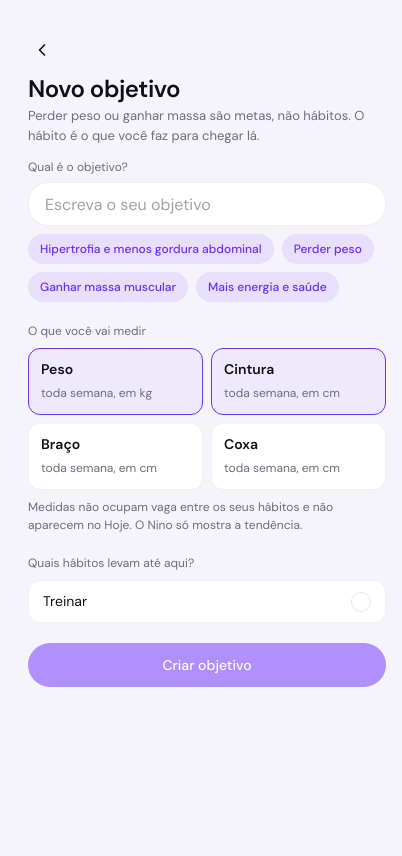
Test: novo objetivo › cria com as medidas escolhidas (peso e cintura vêm marcados) e vai para a tela do objetivo
This screenshot has width=402, height=856.
Check: the button "Criar objetivo" is disabled, box [28,643,386,687]
Click the button "Hipertrofia e menos gordura abdominal": (151, 249) [28,234,274,264]
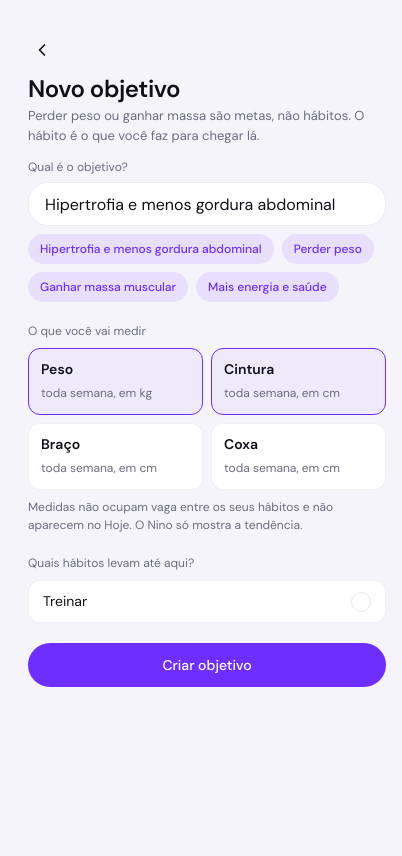
Click the button "Treinar": (65, 601) [28,580,386,623]
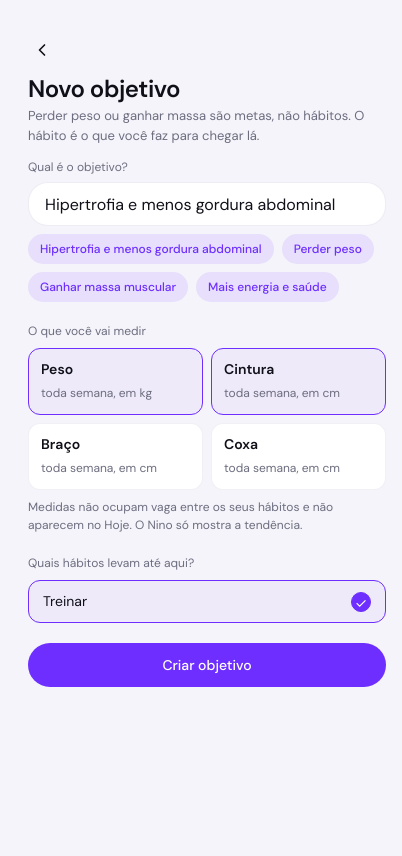
Click the button "Braço toda semana, em cm": (116, 457) [28,423,203,490]
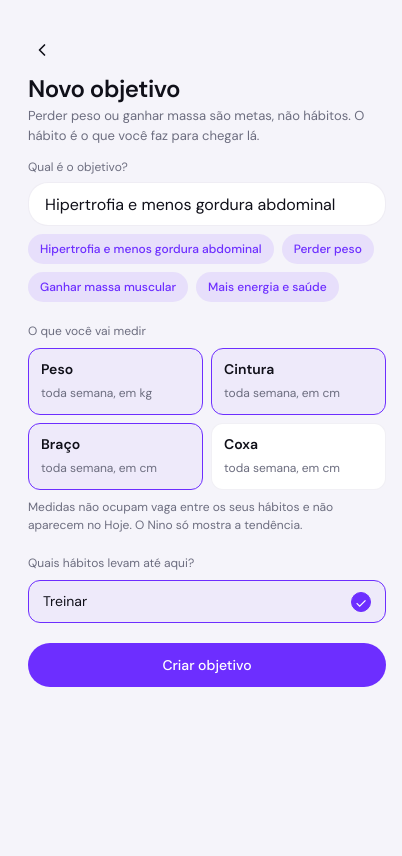
Click the button "Criar objetivo": (207, 665) [28,643,386,687]
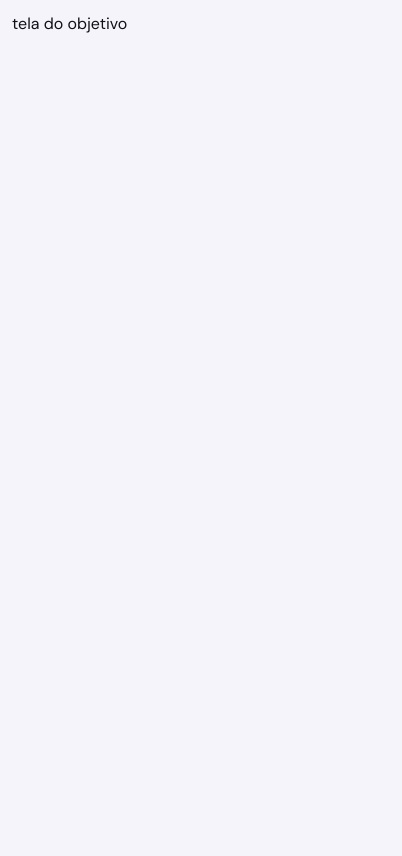
Check: the text "tela do objetivo" is shown, box [12,13,127,34]
